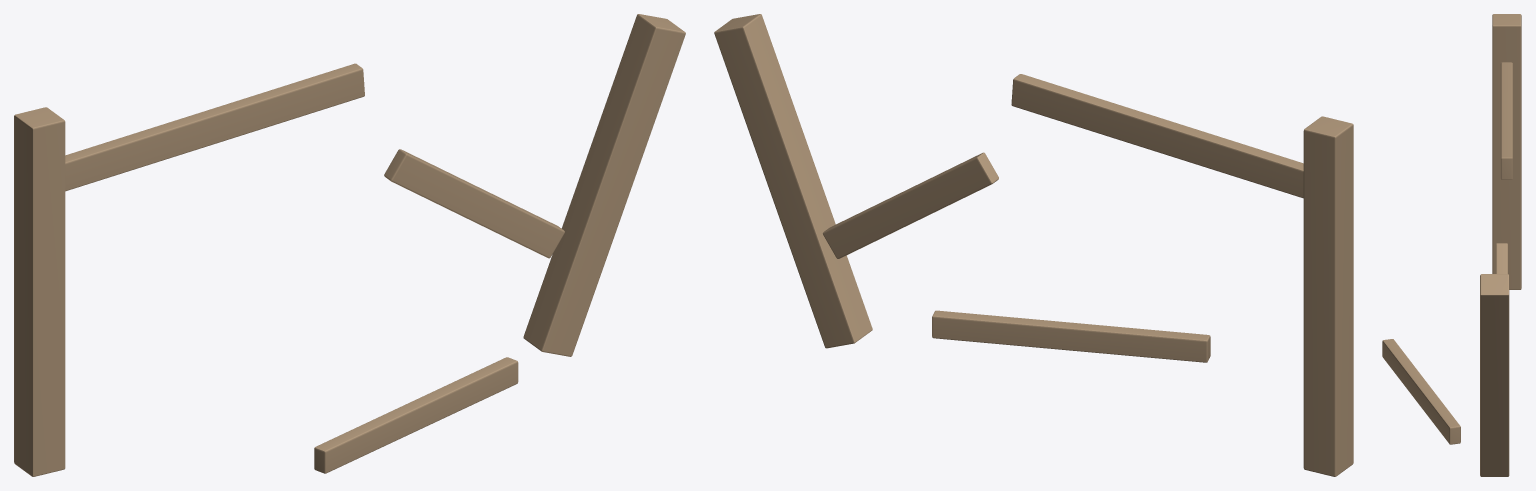
File: fence_broken.glb
3 views of the same model, side by side, from view 1: azimuth 30°, elevation 25°; view 2: azimuth 150°, elevation 25°; view 3: azimuth 270°, elevation 25° (orthographic). The views are drawn at different scales.
Visible parts, largest first — view 1: fence_broken; view 2: fence_broken; view 3: fence_broken.
Part boxes in pixels (x1=…): fence_broken: x1=14, y1=14, x2=685, y2=476; fence_broken: x1=714, y1=14, x2=1353, y2=476; fence_broken: x1=1382, y1=14, x2=1521, y2=476.
Size of the model in its own units: 2.32 by 1.21 by 0.571.
